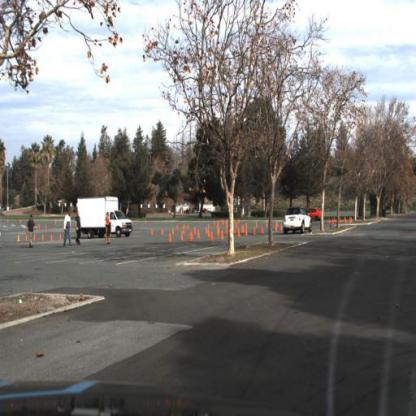car: (283, 205, 315, 235), (306, 207, 325, 220)
pedestrian: (63, 210, 74, 250), (27, 215, 38, 250), (104, 212, 112, 246), (76, 212, 82, 247)
truck: (77, 196, 134, 237)
